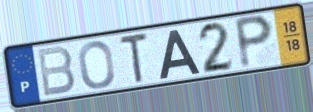2: (197, 21, 235, 74)
A: (157, 27, 202, 81)
B: (35, 44, 77, 99)
O: (77, 39, 117, 91)
P: (233, 13, 276, 71)
T: (117, 31, 151, 87)
